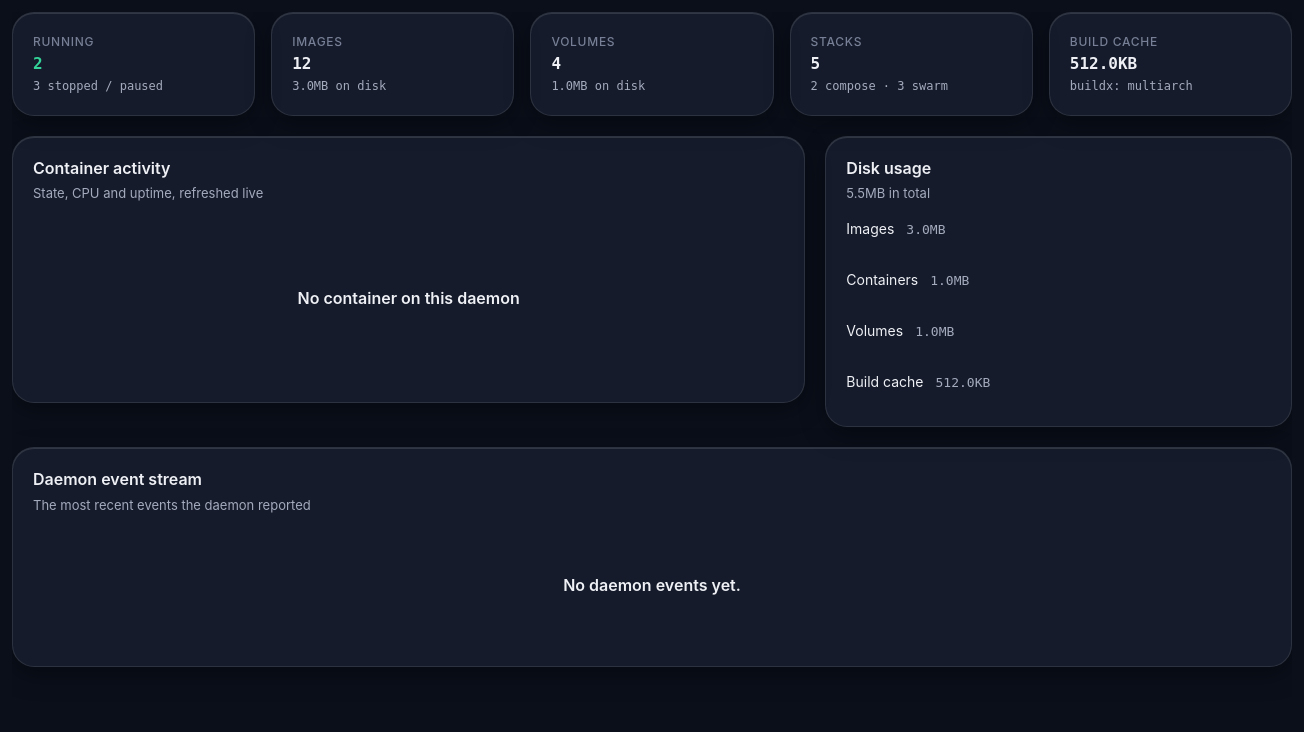
Test: DashboardScreen — where a tile or a row leads (plan-docker_management_app/REQ-18) › activating the tile named Volumes — open the Volumes & networks screen navigates to its screen
The width and height of the screenshot is (1304, 732).
Click the button with aria-label "Volumes — open the Volumes & networks screen": (652, 64) x1=530 y1=12 x2=774 y2=116
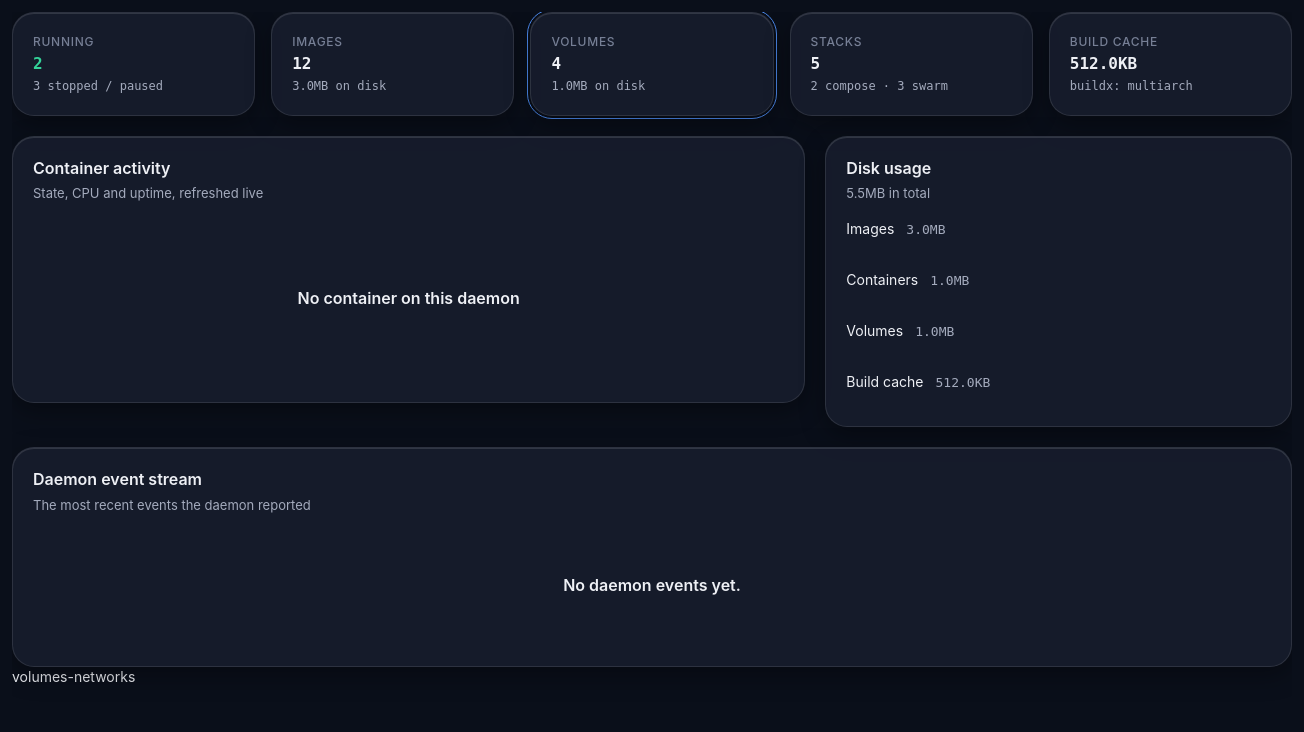
Result: the text with test id "navigation" reads "volumes-networks" at x1=12 y1=668 x2=135 y2=685
